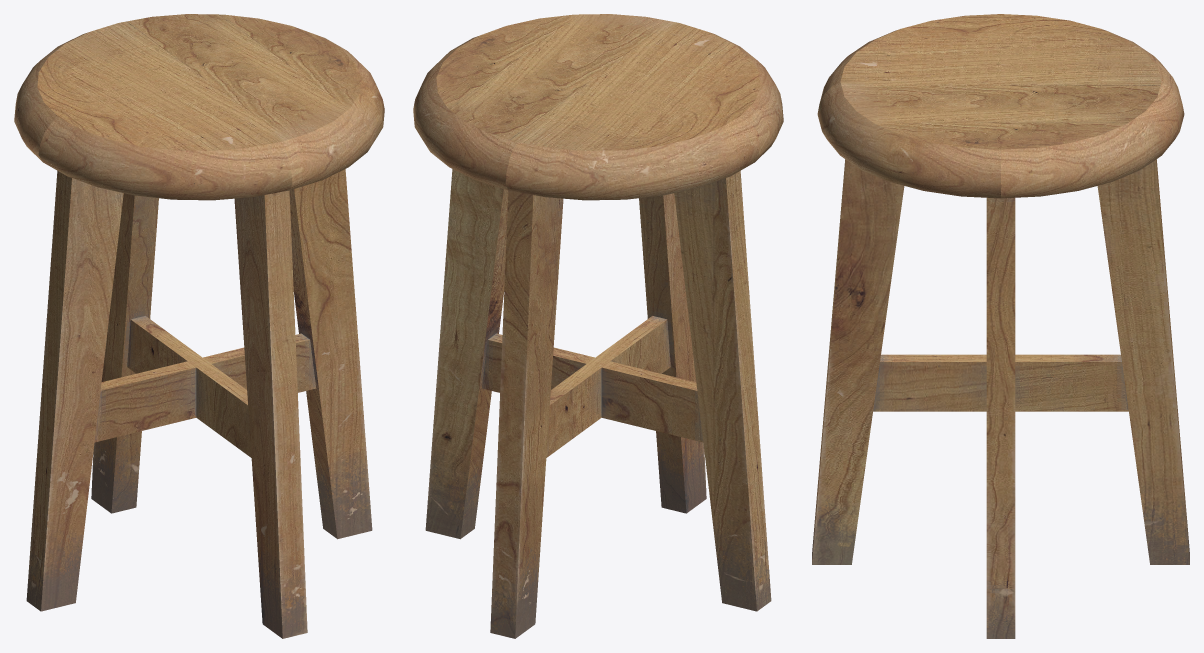
The model's file is RoundedChair2_SM.fbx.
3 renders of one model, left to right at view 1: azimuth 30°, elevation 25°; view 2: azimuth 150°, elevation 25°; view 3: azimuth 270°, elevation 25°, orthographic.
Visible parts, largest first — view 1: RoundedChair2_SM; view 2: RoundedChair2_SM; view 3: RoundedChair2_SM.
Part boxes in pixels (x1,y1,x2,y2): RoundedChair2_SM: (14,14,384,638); RoundedChair2_SM: (413,14,783,638); RoundedChair2_SM: (812,14,1189,638).
Size of the model in its own units: 36.27 by 50.55 by 36.27.
